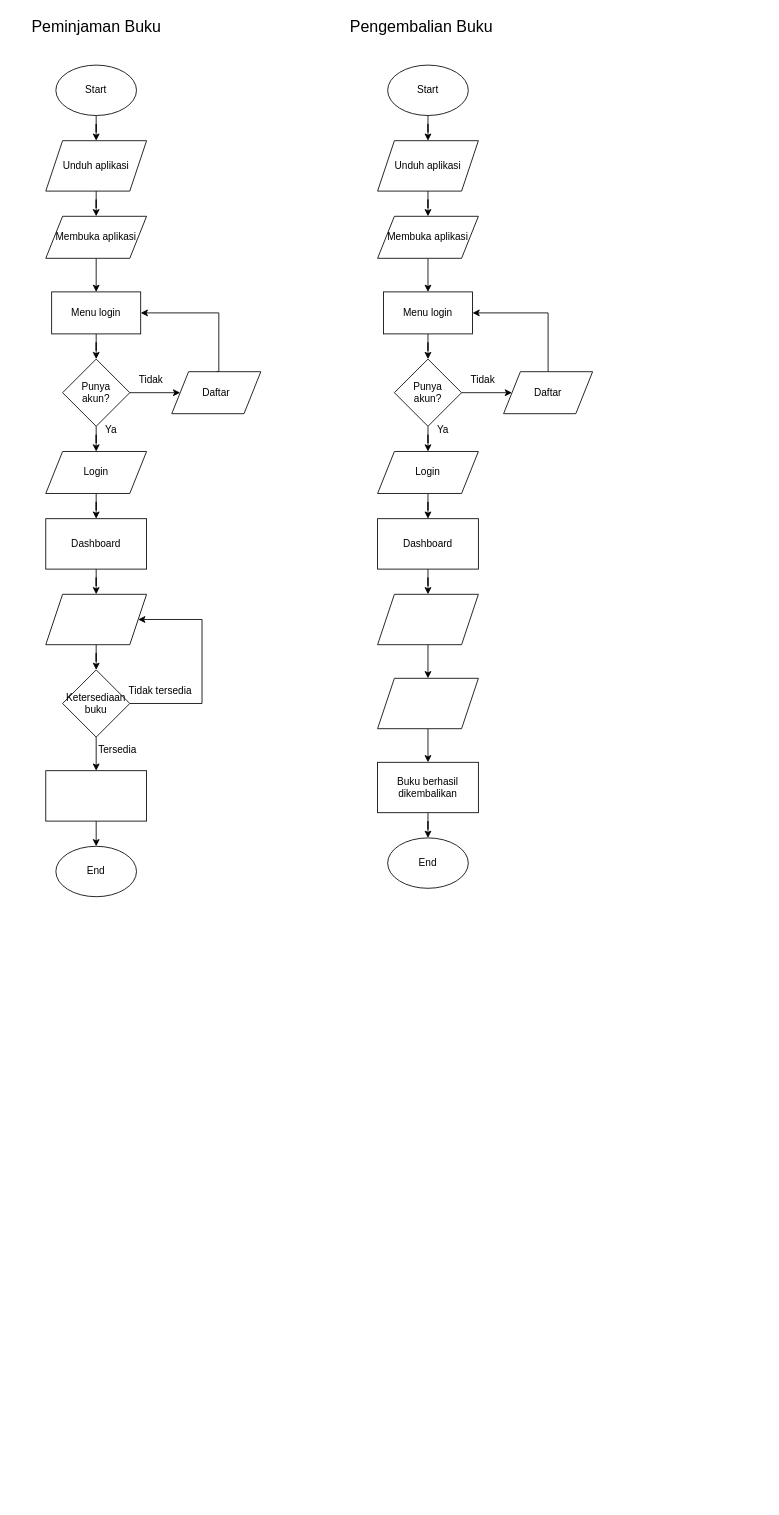
Some shapes in this 779 by 1515 pixel diagram are drawn without their labels. Here are the shapes that lost their labels. From the top down, the box of each, then its label:
(45, 593, 147, 645): Masuk menu memilih buku
(377, 593, 478, 645): Masuk menu Pengembalian buku
(377, 677, 478, 729): Mengembalikan buku
(45, 770, 147, 821): Buku terpimjam
